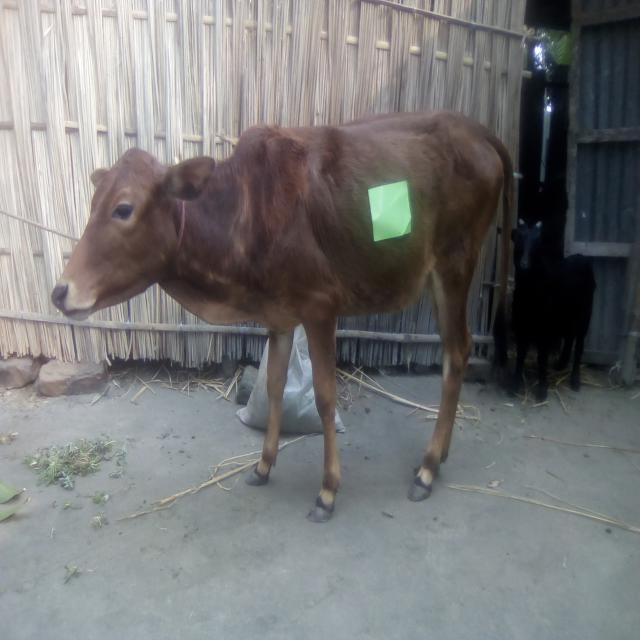badan_sapi: (252, 121, 501, 320)
sapi: (44, 106, 516, 528)
